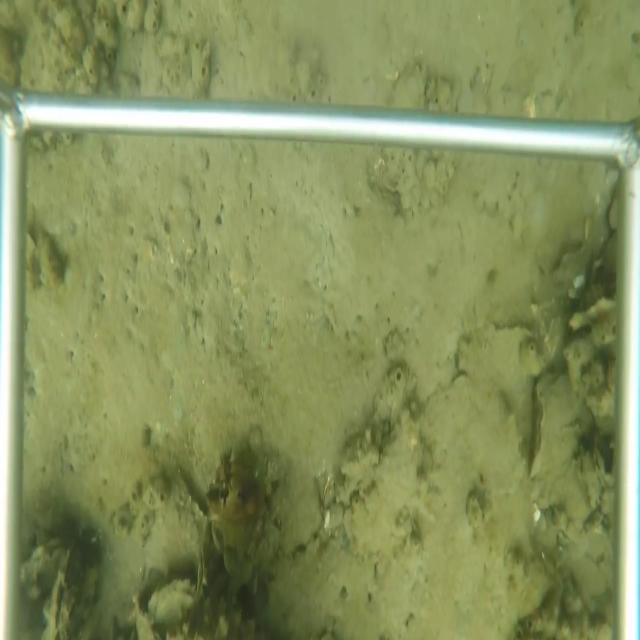Oyster-Closed: (527, 379, 550, 482), (195, 543, 208, 612)
Oyster-Indeterminate: (339, 412, 428, 561)
